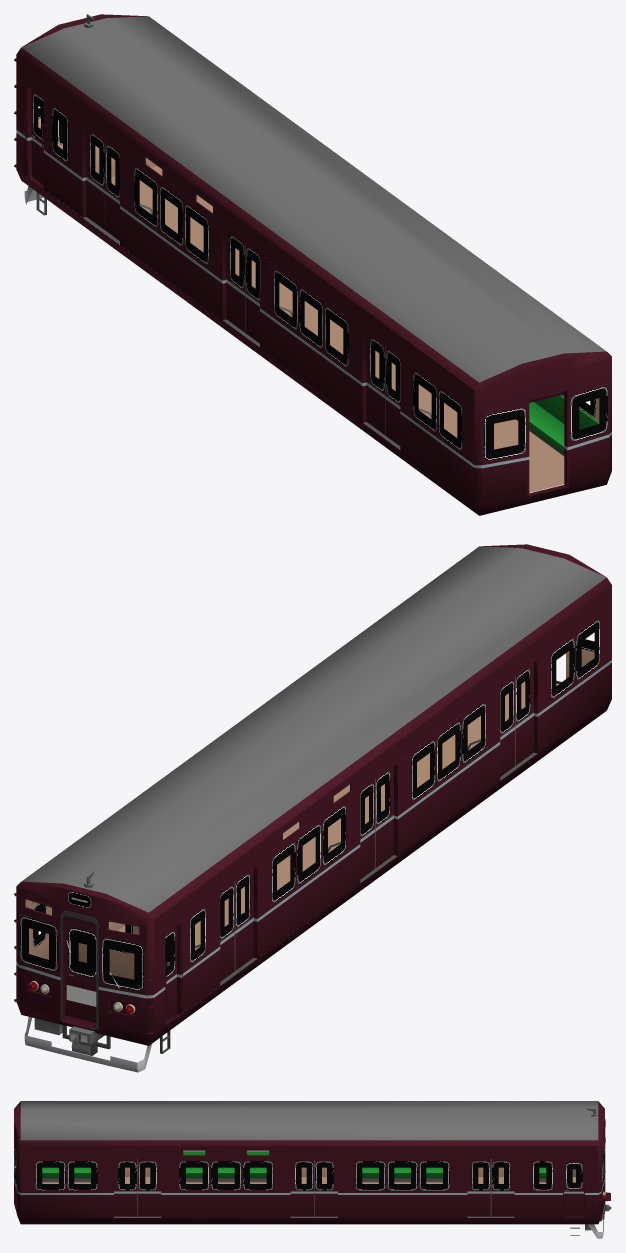
File: HANKYU7001_3.glb
3 renders of one model, top to bottom at view 1: azimuth 30°, elevation 25°; view 2: azimuth 150°, elevation 25°; view 3: azimuth 270°, elevation 25°, orthographic. The views are drawn at different scales.
Visible parts, largest first — view 1: body; view 2: body; view 3: body.
Part boxes in pixels (left/top/right/bottom): body: left=14, top=14, right=611, bottom=515; body: left=14, top=544, right=611, bottom=1072; body: left=14, top=1101, right=611, bottom=1238.
Size of the model in its own units: 6.68 by 8.08 by 38.91.
15 materials, 14 textured.
